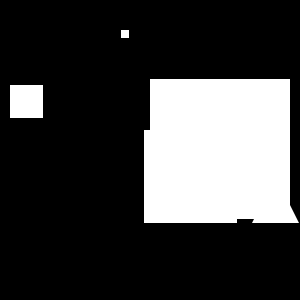circle: (150, 79, 290, 219), (144, 130, 237, 223), (10, 85, 43, 118), (121, 30, 129, 38)
triangle: (252, 176, 299, 223)
